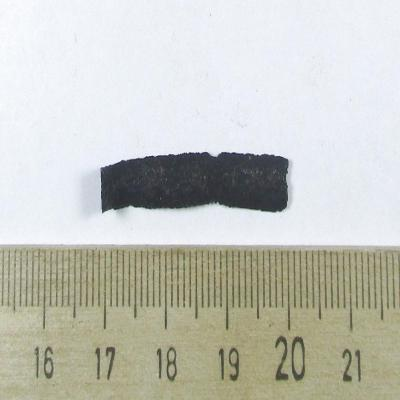archeology: (100, 153, 290, 214)
